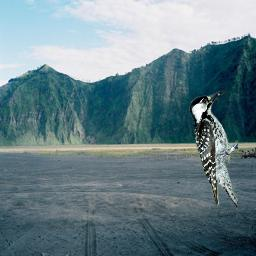Woodpecker: (189, 90, 238, 210)
